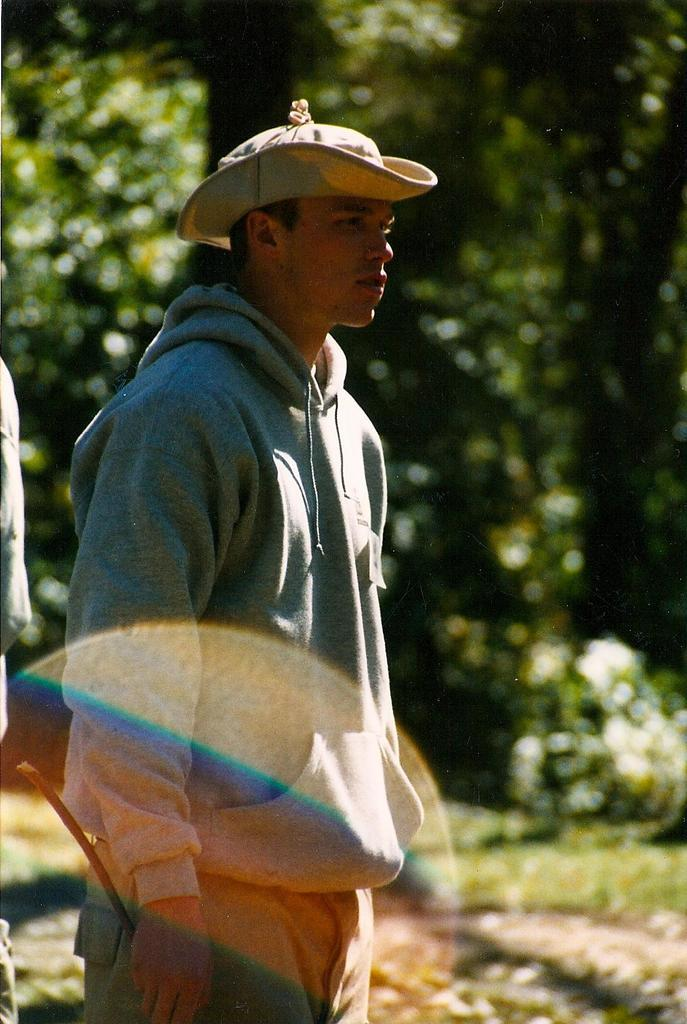Hat: (169, 95, 437, 252)
